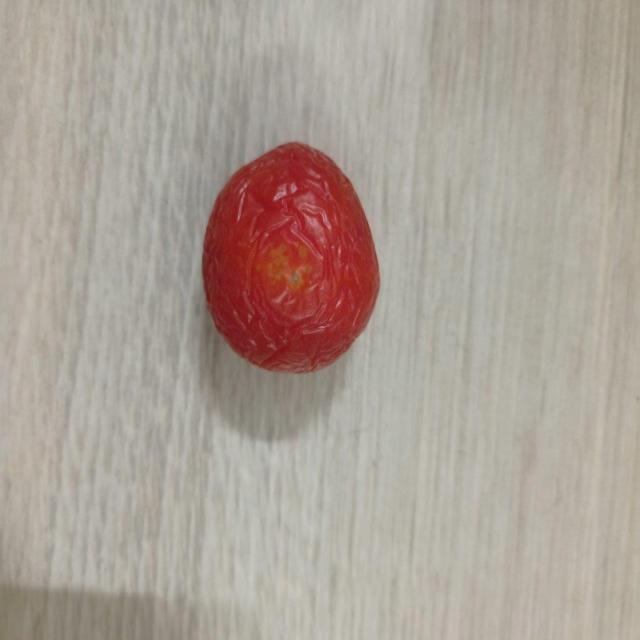overripe: (201, 136, 381, 376)
